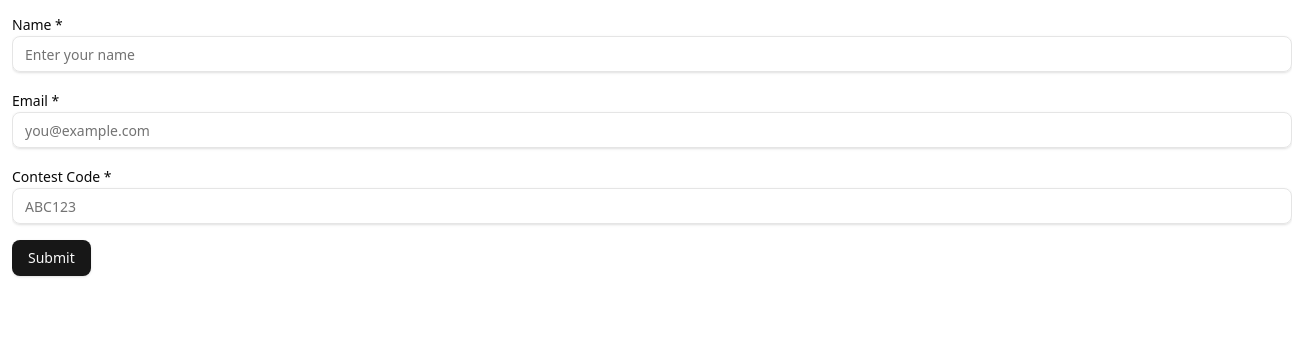
Scenario: ExampleForm › inline error display (AC5) › displays errors below their respective fields
Note: Trigger validation on both fields
Click the field labelled "Name *" at (652,54), box x1=12 y1=36 x2=1292 y2=72
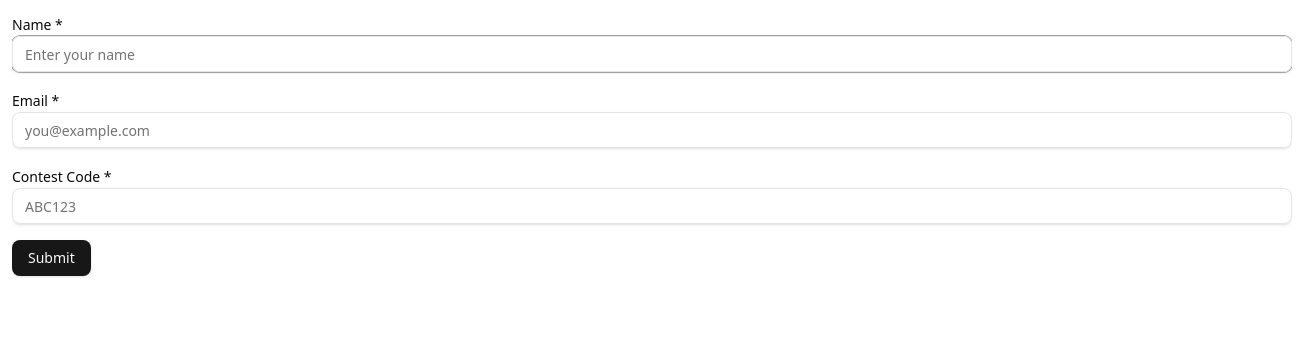
Press Tab
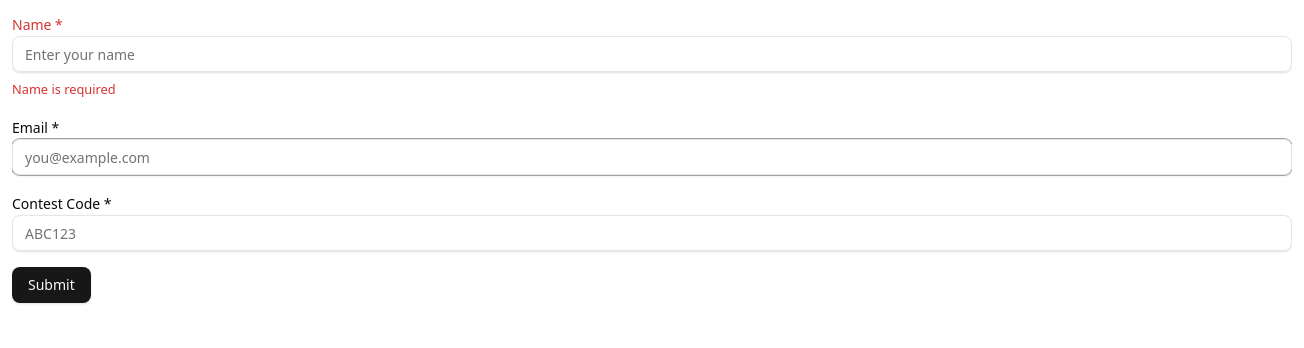
Type "bad" into the field labelled "Email *" at (652,157), box x1=12 y1=139 x2=1292 y2=175
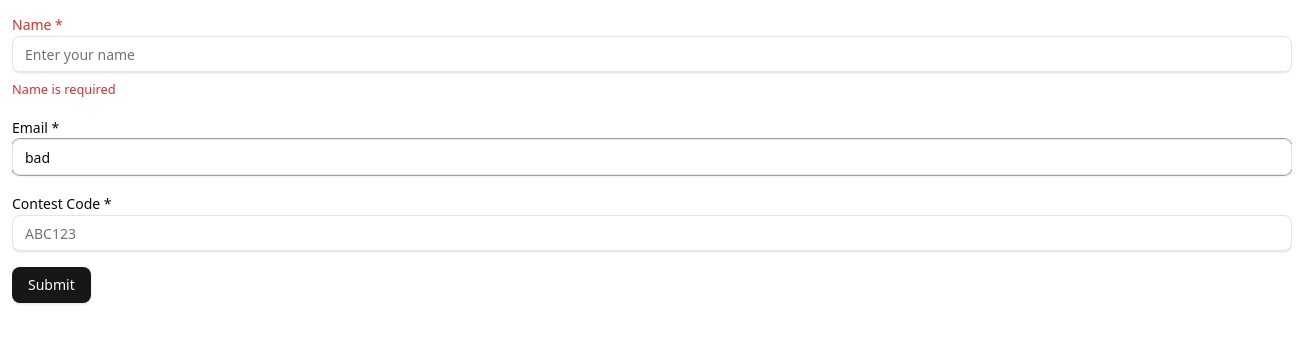
Press Tab
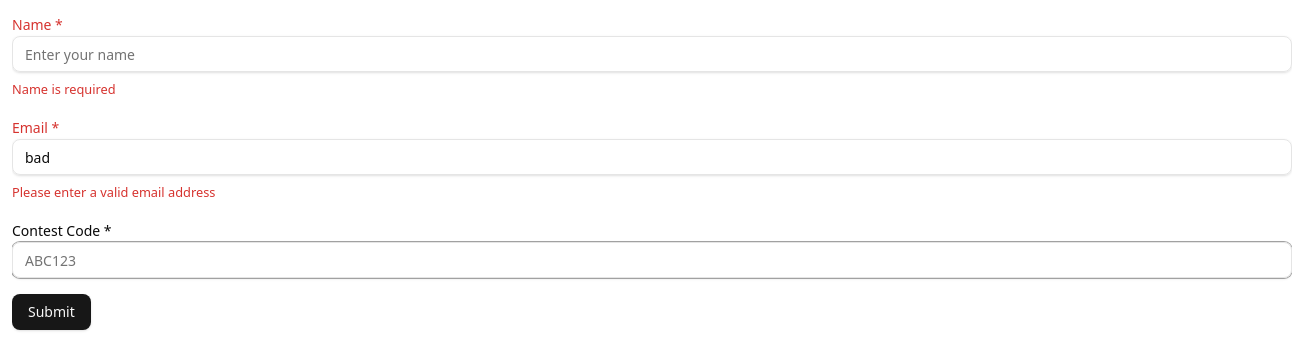
Expected: the text "Name is required" is shown, x1=12 y1=80 x2=116 y2=98
Expected: the text "Please enter a valid email address" is shown, x1=12 y1=183 x2=215 y2=201
